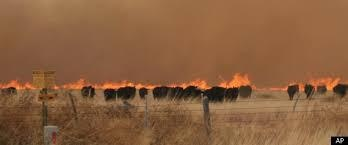fire: (37, 72, 257, 94)
